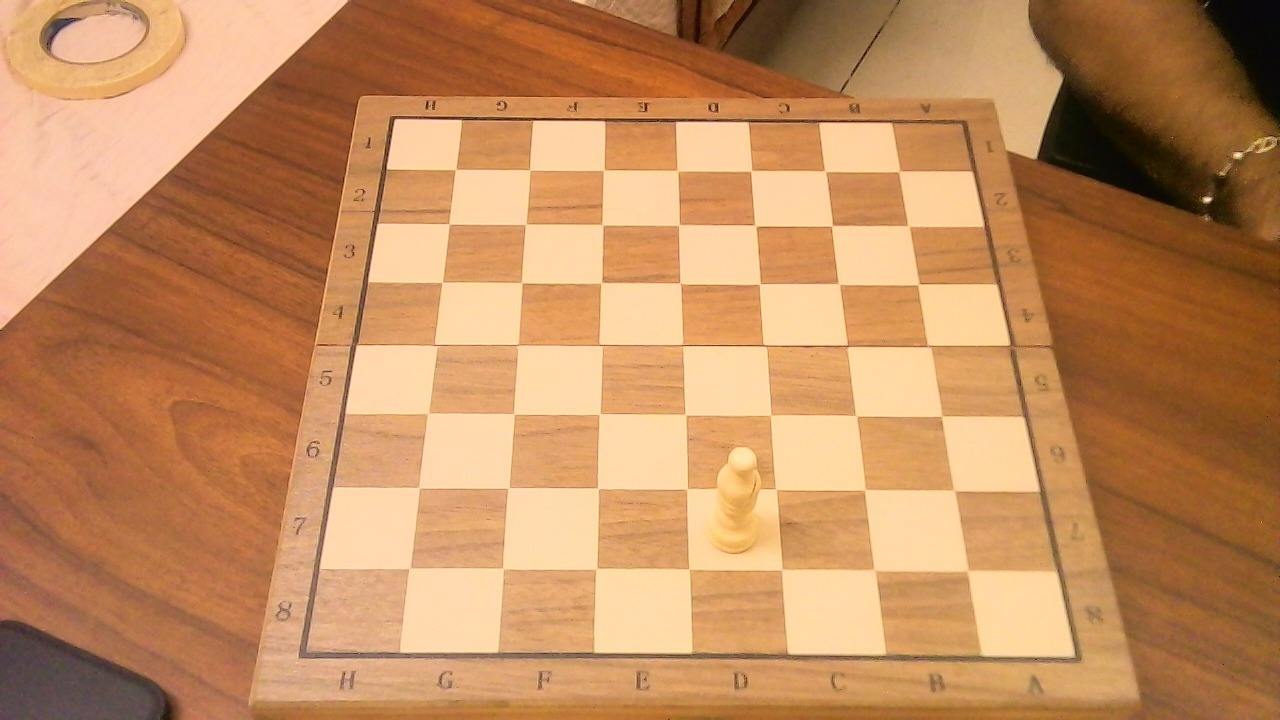B: (699, 436, 773, 560)
